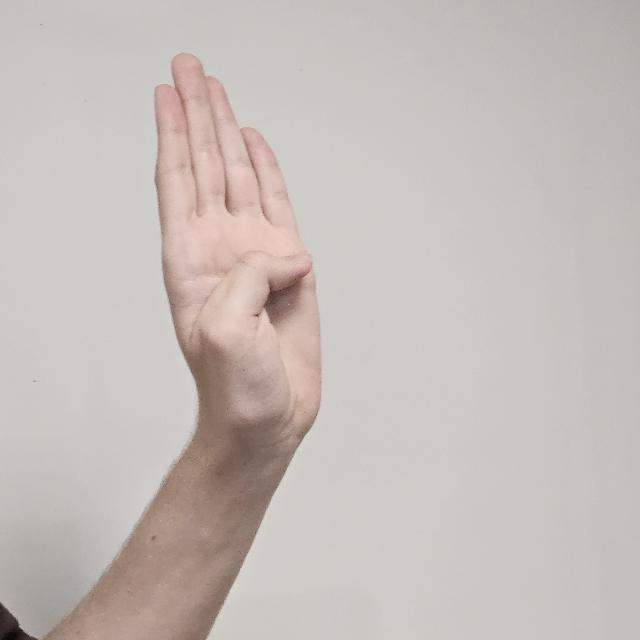Baixo: (140, 54, 326, 462)
